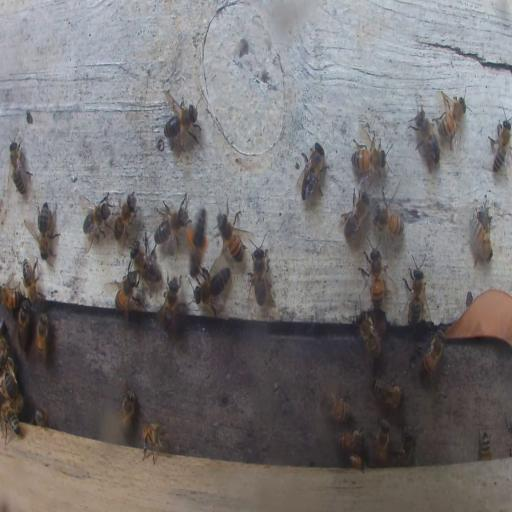bee: (410, 96, 441, 173), (184, 200, 210, 276), (295, 139, 327, 200), (162, 98, 201, 148), (404, 252, 428, 330), (194, 265, 230, 315), (217, 208, 247, 264), (439, 91, 468, 147), (340, 188, 370, 241), (247, 238, 270, 306), (418, 328, 448, 380), (129, 238, 161, 286), (34, 201, 60, 259), (83, 194, 111, 246), (488, 115, 512, 175), (363, 241, 384, 309), (155, 200, 186, 246), (9, 137, 32, 196), (142, 420, 172, 464), (470, 202, 492, 262), (157, 275, 180, 331), (357, 310, 382, 360), (112, 194, 137, 243), (373, 196, 404, 234), (350, 143, 390, 171), (372, 376, 404, 410), (114, 270, 137, 316), (320, 388, 351, 422), (332, 427, 367, 456), (393, 425, 416, 467), (22, 260, 41, 307), (372, 418, 389, 467), (2, 368, 22, 409), (34, 313, 49, 362), (120, 388, 136, 433), (2, 406, 22, 441), (16, 300, 30, 346), (0, 282, 23, 310), (479, 431, 492, 460), (33, 408, 49, 428), (348, 454, 367, 470)
